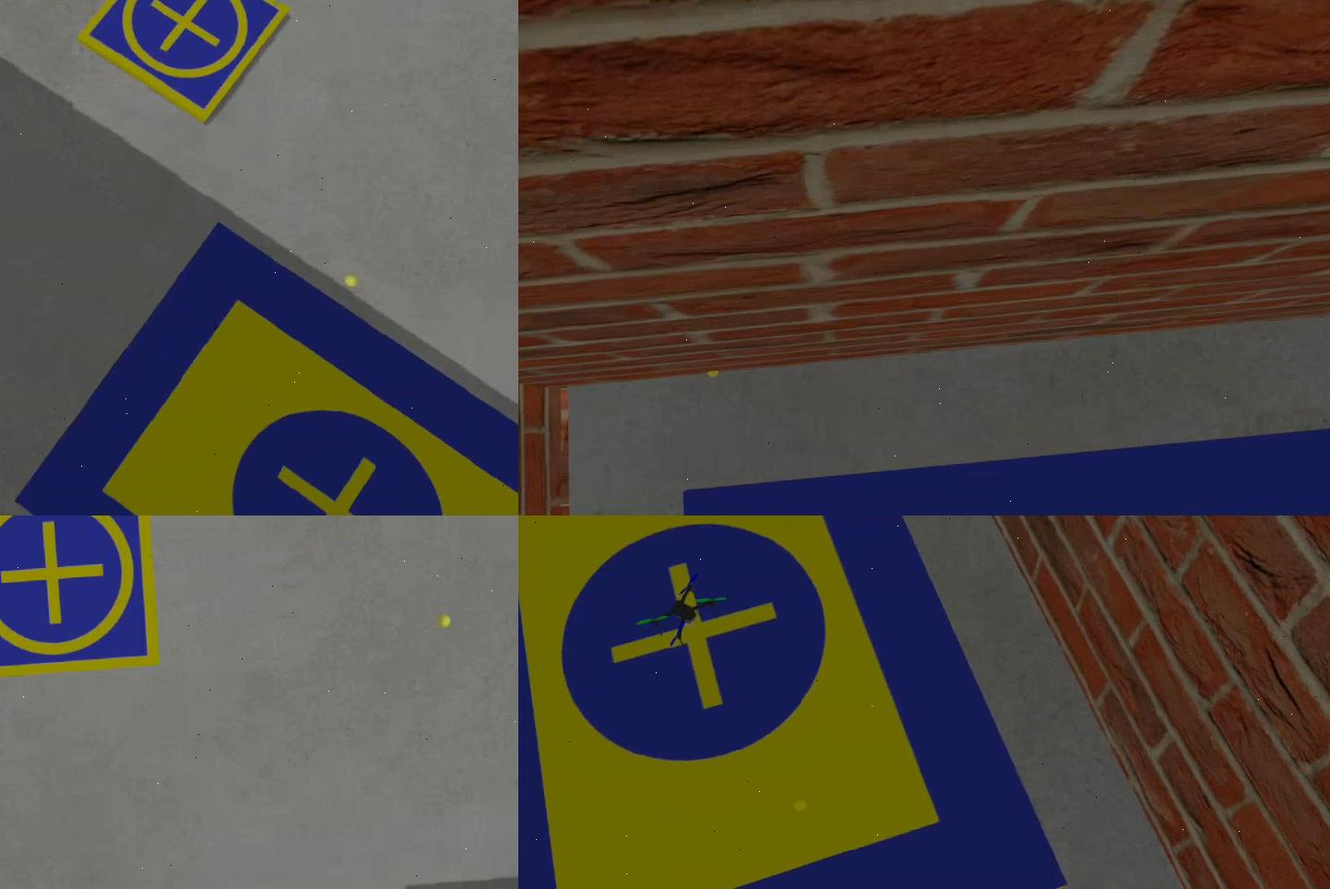large_base: (519, 516, 1078, 889), (2, 197, 519, 516), (681, 417, 1330, 516)
small_base: (77, 1, 296, 127), (1, 516, 165, 682)
